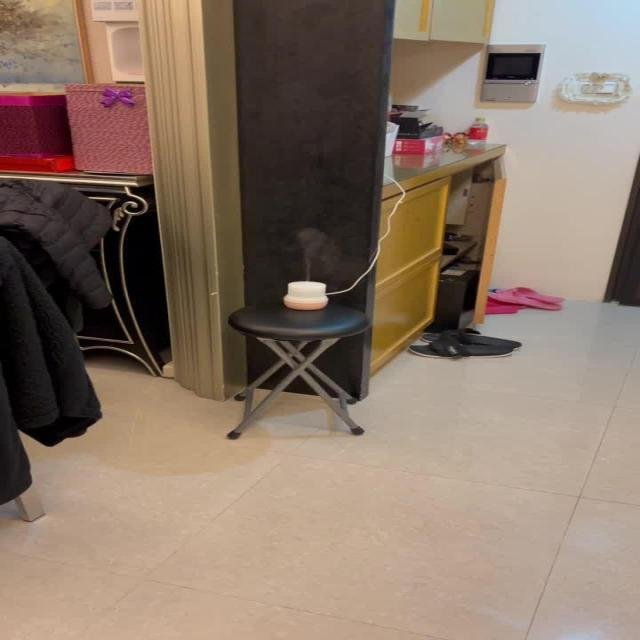fire: (279, 224, 341, 274)
